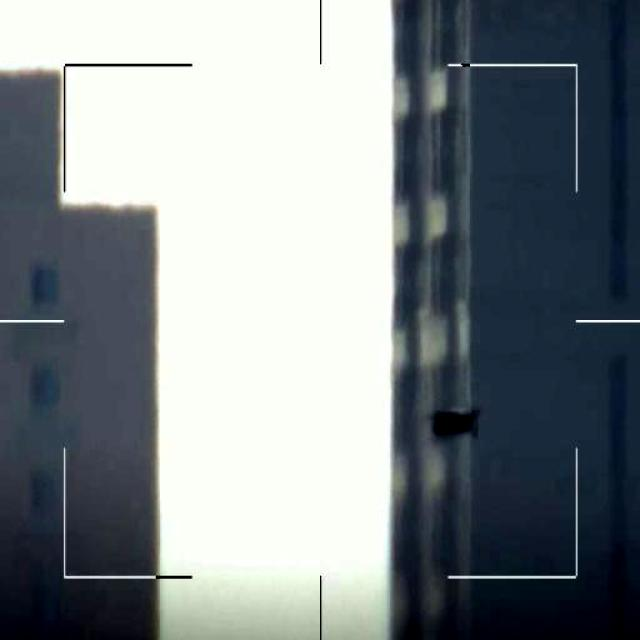bird: (430, 399, 481, 441)
